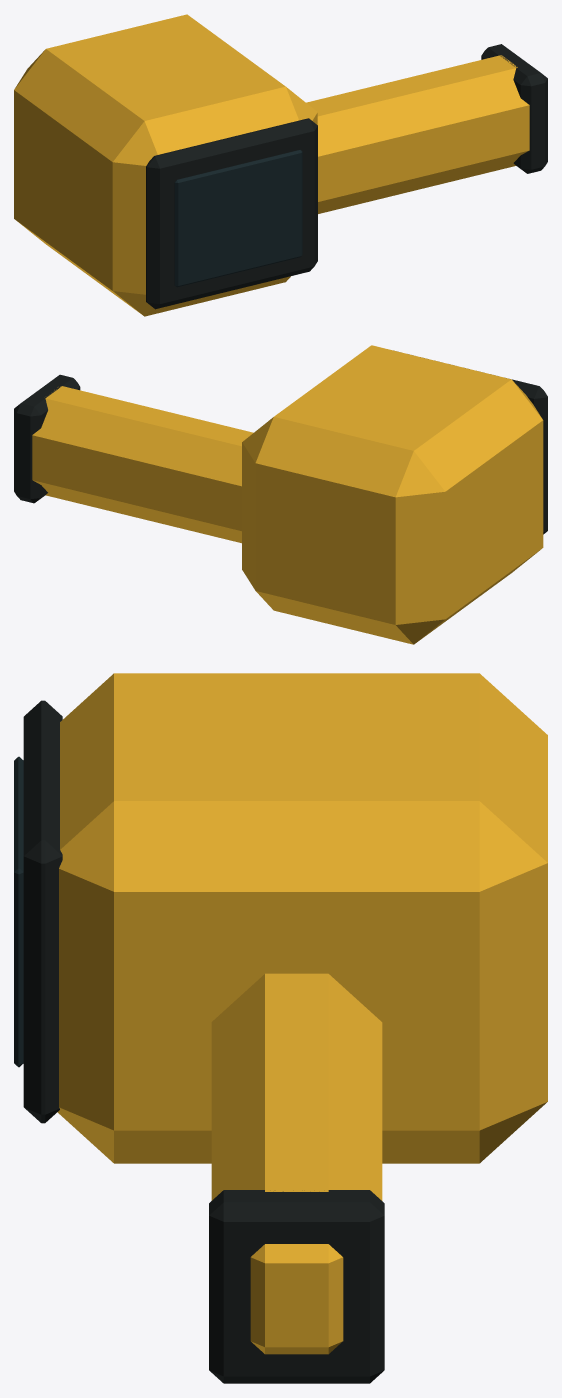
The picture shows the model from 3 angles, top to bottom: view 1: azimuth 30°, elevation 25°; view 2: azimuth 150°, elevation 25°; view 3: azimuth 270°, elevation 25°; orthographic projection. The views are drawn at different scales.
Parts seen in each view (by area): view 1: Wide yellow handheld head, Broad black head back, Unknown dark head face; view 2: Wide yellow handheld head, Broad black head back; view 3: Wide yellow handheld head, Broad black head back, Unknown dark head face.
Boxes of the visible parts, bbox=[...] form: Wide yellow handheld head: bbox=[14, 14, 529, 316]; Broad black head back: bbox=[146, 44, 547, 309]; Unknown dark head face: bbox=[174, 150, 302, 287]; Wide yellow handheld head: bbox=[32, 345, 543, 644]; Broad black head back: bbox=[14, 374, 547, 534]; Wide yellow handheld head: bbox=[57, 673, 547, 1354]; Broad black head back: bbox=[23, 700, 384, 1383]; Unknown dark head face: bbox=[14, 756, 23, 1067].
Size of the model in its own units: 0.207 by 0.082 by 0.1095.
